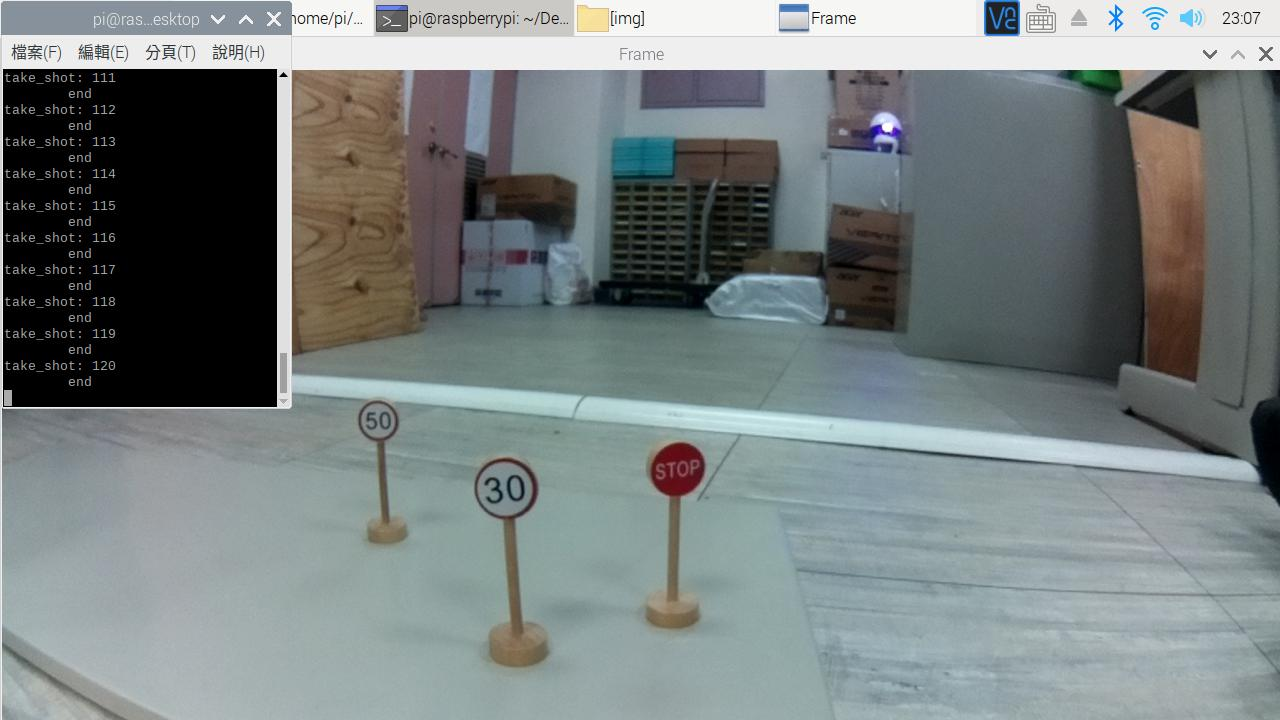Speed30: (466, 453, 550, 531)
Speed50: (351, 398, 412, 453)
Stop: (635, 438, 721, 500)
